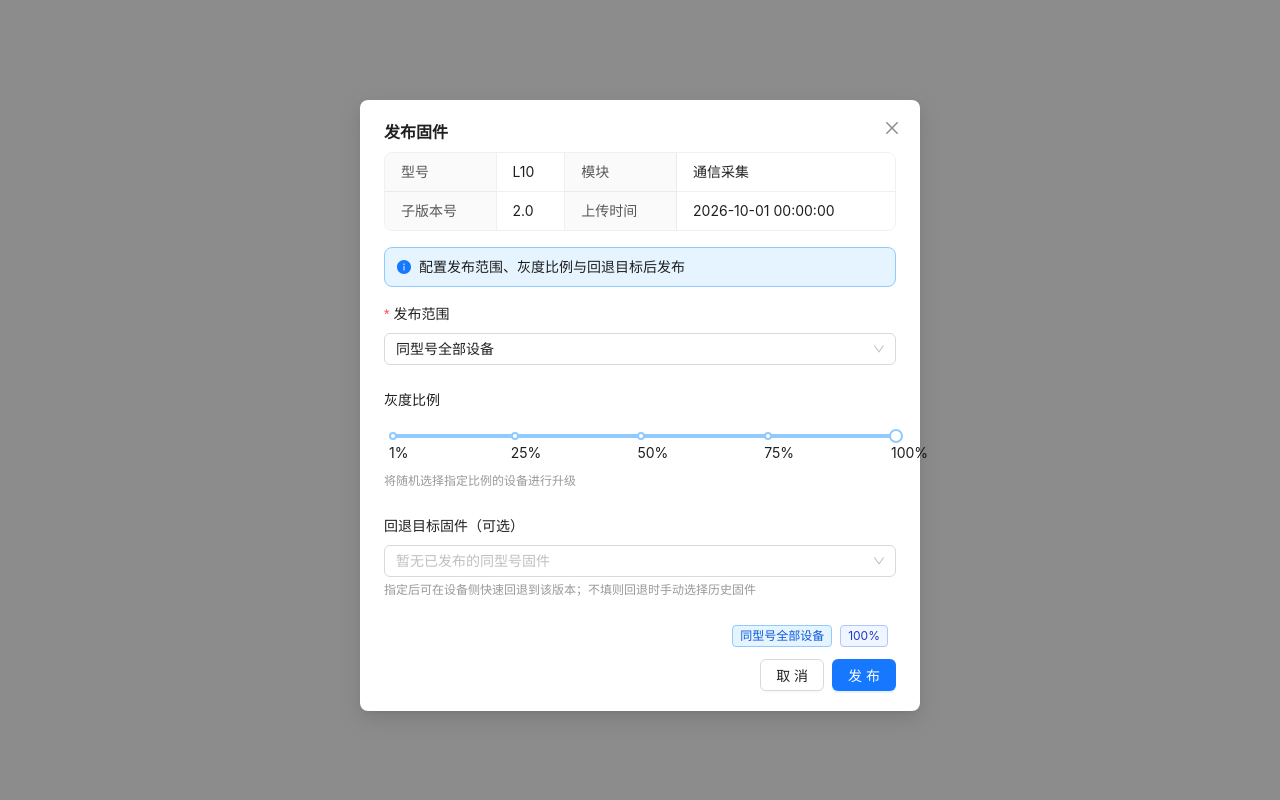
Scenario: firmware publication › offers every published rollback in the same model/module regardless of board range
The image size is (1280, 800).
Press the mouse on the dropdown labelled "暂无已发布的同型号固件": coordinates (473, 560) [396,552,550,569]
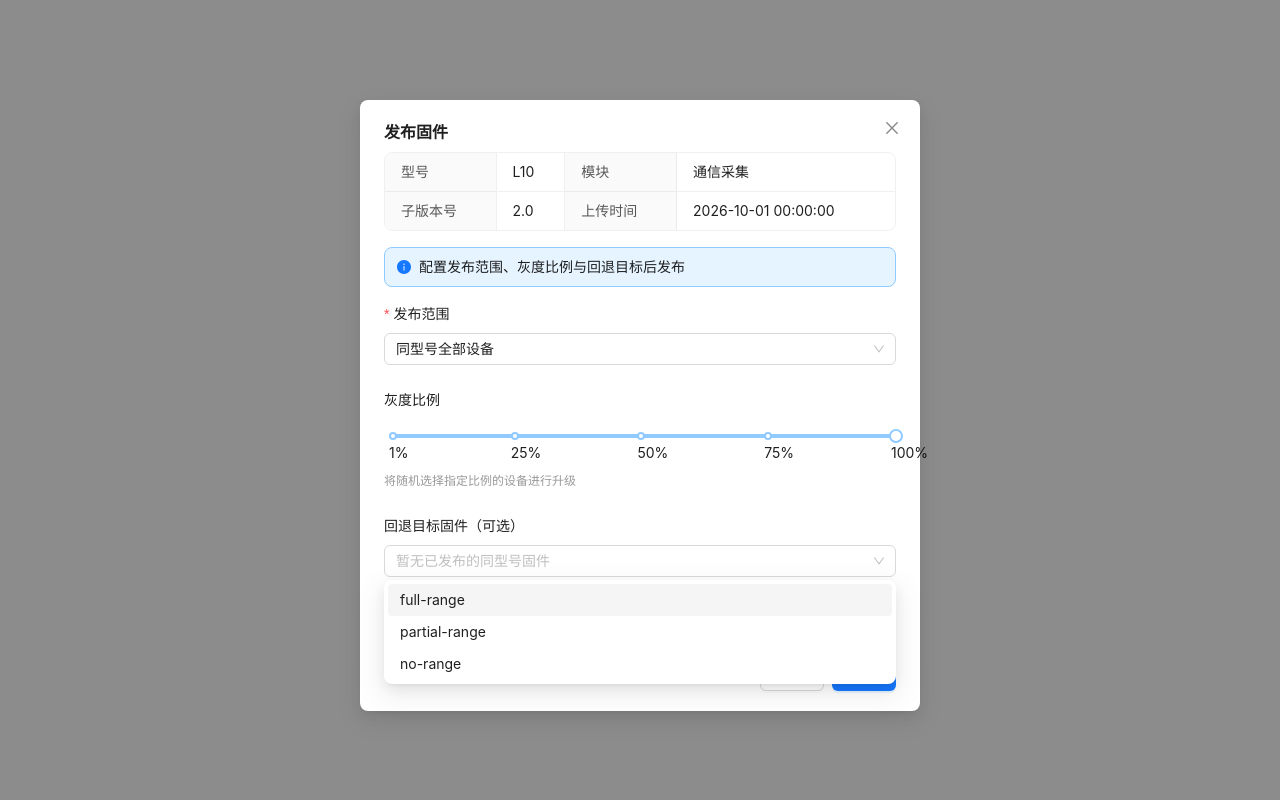
Now the text "full-range" is shown, box [400,591,465,608]
Now the text "partial-range" is shown, box [400,623,486,640]
Now the text "no-range" is shown, box [400,655,461,672]
